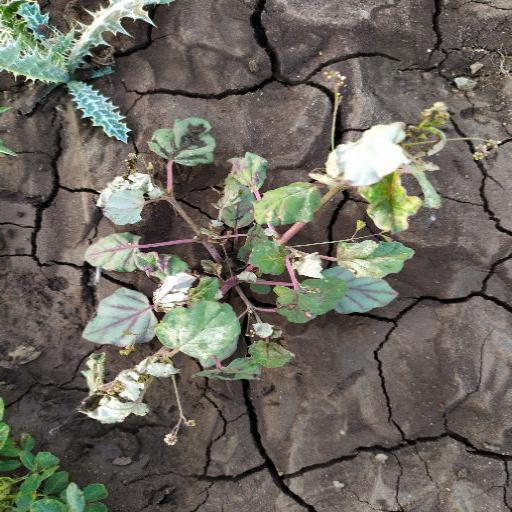weed: (59, 149, 458, 428), (1, 1, 184, 145)
